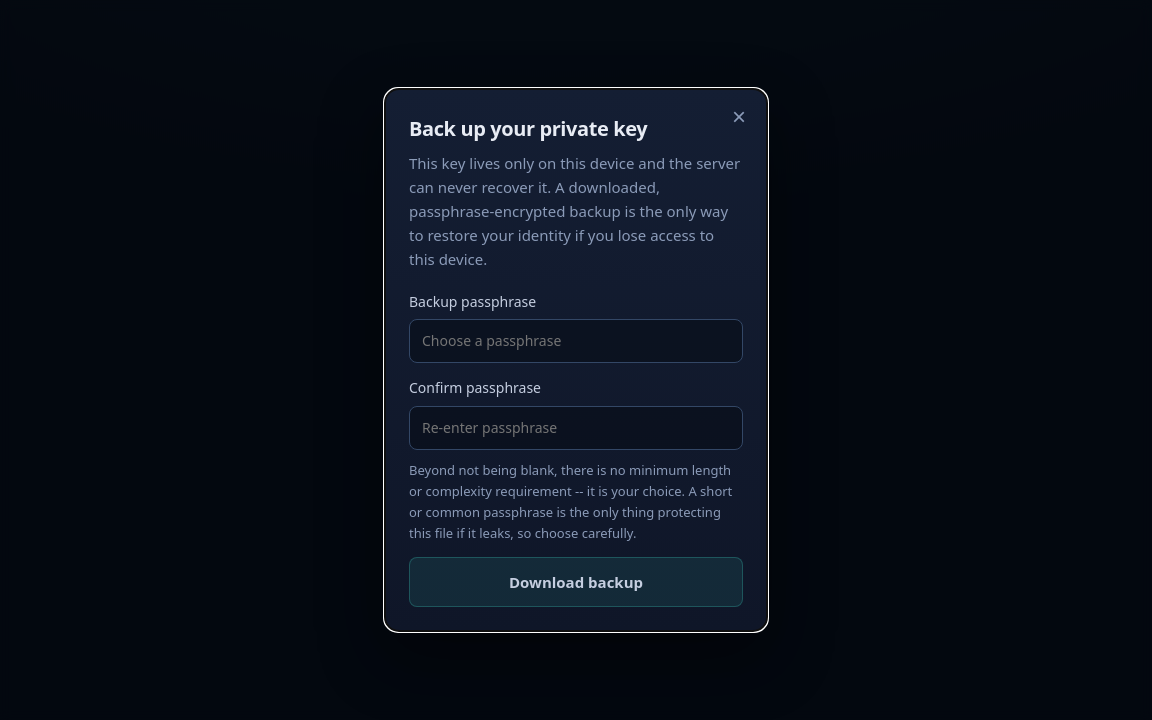
Test: BackupIdentityDialog › downloads a backup file once the passphrase is confirmed
In the password field labelled "Backup passphrase": (576,341) [409, 319, 743, 363], type "abc"
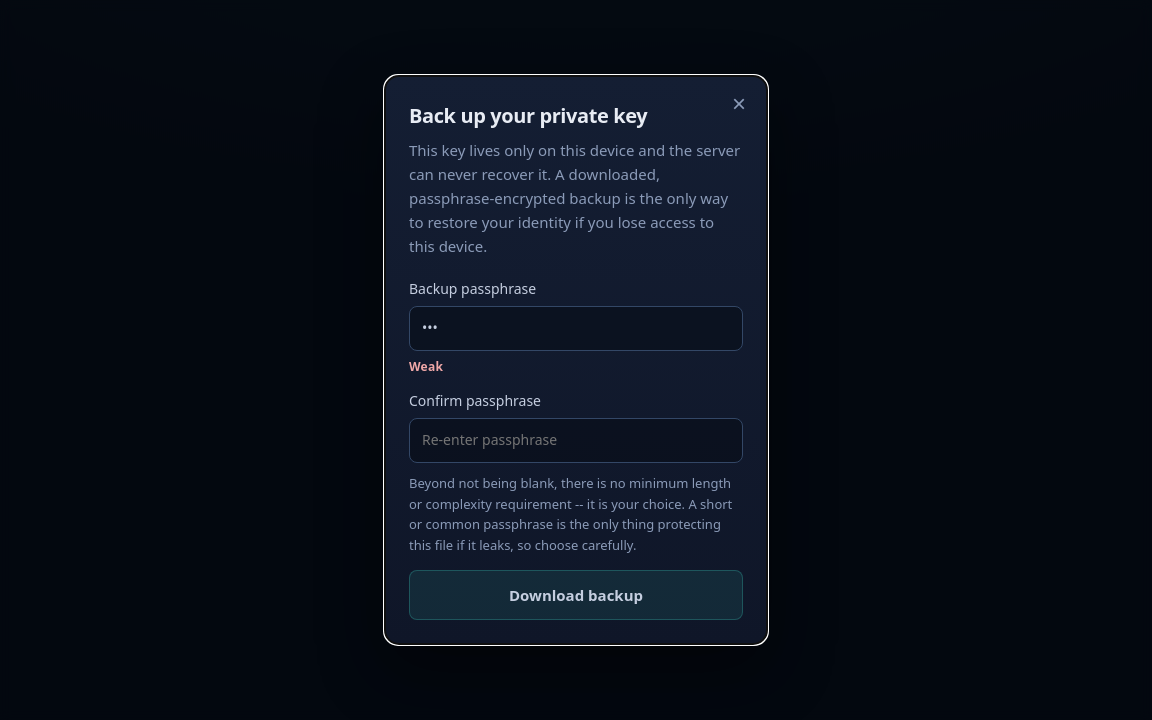
In the password field labelled "Confirm passphrase": (576,441) [409, 418, 743, 463], type "abc"
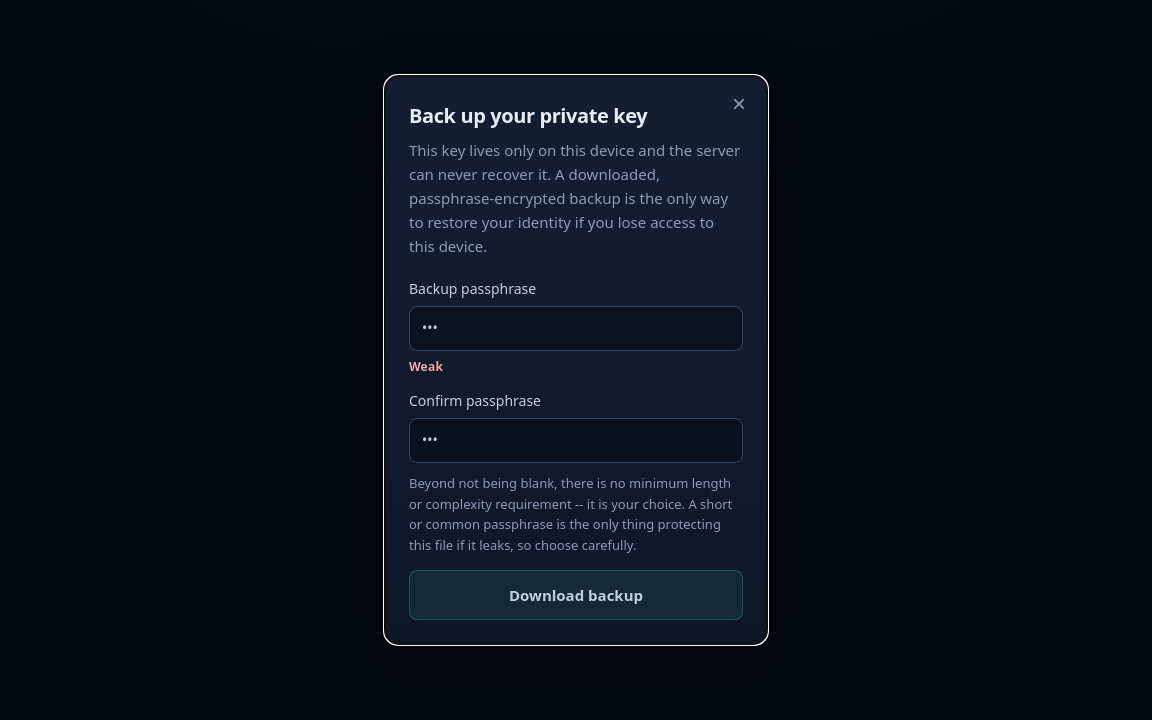
Click the button "Download backup": (576,595) [409, 570, 743, 620]
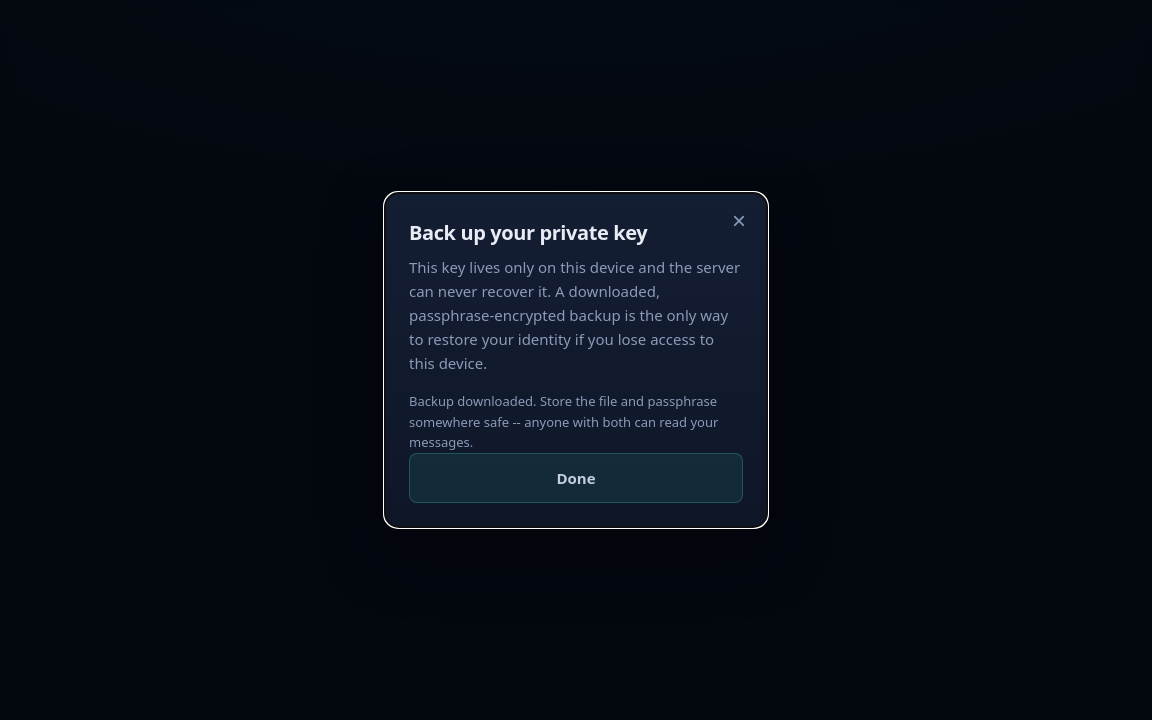
Now the text "Backup downloaded" is shown, box [409, 392, 718, 451]
